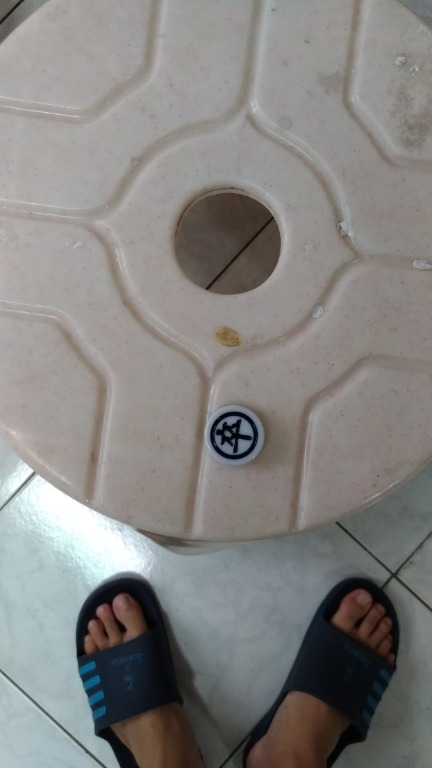b-pawn: (199, 397, 279, 469)
